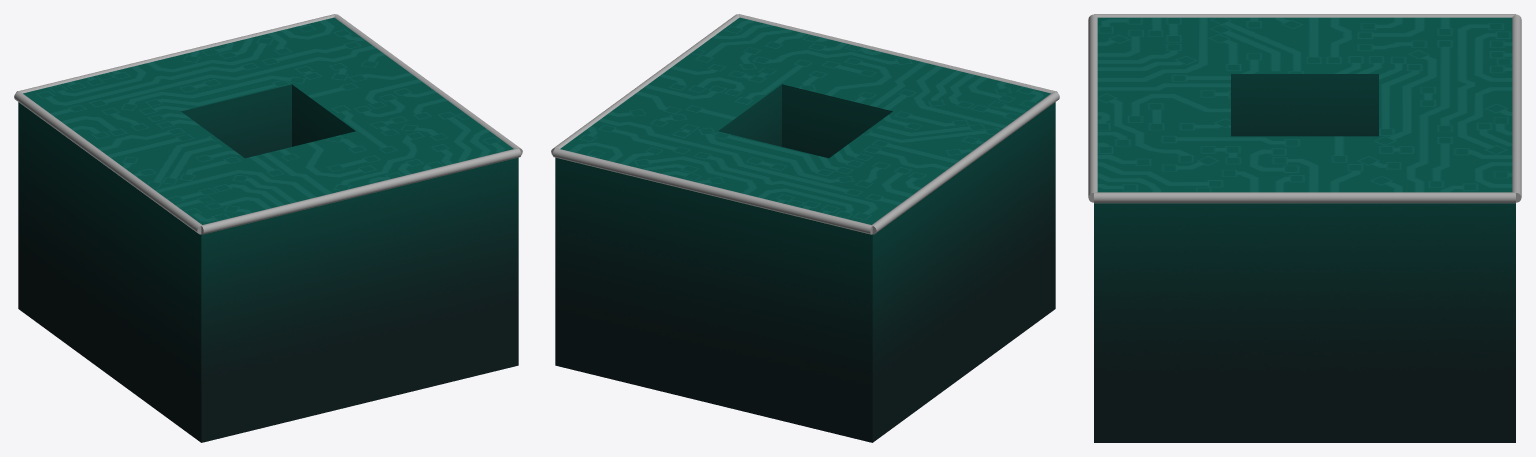
File: ScrambleBlock.fbx
The picture shows the model from 3 angles, left to right: view 1: azimuth 30°, elevation 25°; view 2: azimuth 150°, elevation 25°; view 3: azimuth 270°, elevation 25°; orthographic projection. The views are drawn at different scales.
Parts seen in each view (by area): view 1: ScrambleBlock, LightLeft, LightUp, LightRight, LightDown; view 2: ScrambleBlock, LightRight, LightUp, LightLeft, LightDown; view 3: ScrambleBlock, LightDown, LightRight, LightLeft, LightUp.
Boxes of the visible parts, bbox=[...] form: ScrambleBlock: bbox=[18, 17, 518, 442]; LightLeft: bbox=[201, 148, 520, 234]; LightUp: bbox=[14, 91, 201, 234]; LightRight: bbox=[16, 14, 335, 93]; LightDown: bbox=[334, 14, 522, 155]; ScrambleBlock: bbox=[555, 17, 1055, 442]; LightRight: bbox=[553, 148, 872, 234]; LightUp: bbox=[872, 91, 1059, 234]; LightLeft: bbox=[738, 14, 1057, 93]; LightDown: bbox=[551, 14, 739, 155]; ScrambleBlock: bbox=[1094, 17, 1515, 442]; LightDown: bbox=[1094, 192, 1515, 203]; LightRight: bbox=[1512, 14, 1521, 202]; LightLeft: bbox=[1088, 14, 1097, 202]; LightUp: bbox=[1094, 14, 1515, 17].
Bounding box in the file's own units: 1.03 × 0.6538 × 1.03.
